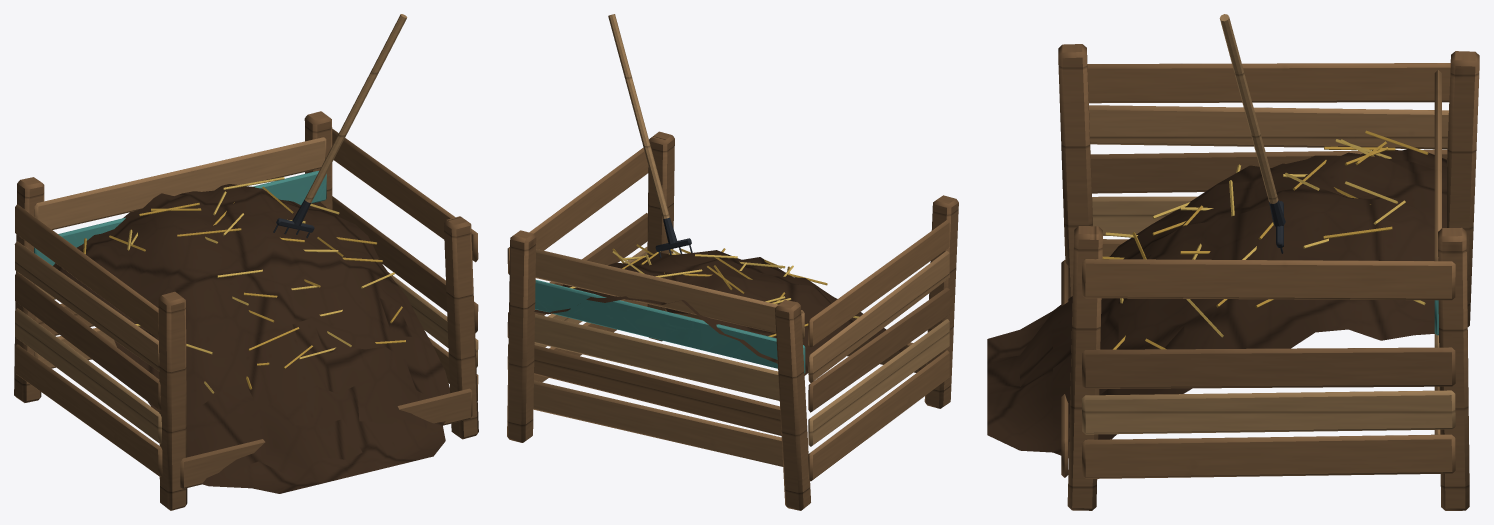
The model's file is compost_heap.glb.
3 views of the same model, side by side, from view 1: azimuth 30°, elevation 25°; view 2: azimuth 150°, elevation 25°; view 3: azimuth 270°, elevation 25° (orthographic). The views are drawn at different scales.
Visible parts, largest first — view 1: compost_heap; view 2: compost_heap; view 3: compost_heap.
Boxes of the visible parts, x1,y1,x2,y2 form: compost_heap: [14, 14, 478, 510]; compost_heap: [507, 14, 958, 510]; compost_heap: [987, 14, 1479, 510].
Bounding box in the file's own units: 1.65 × 1.87 × 1.71.
12 materials, 12 textured.
